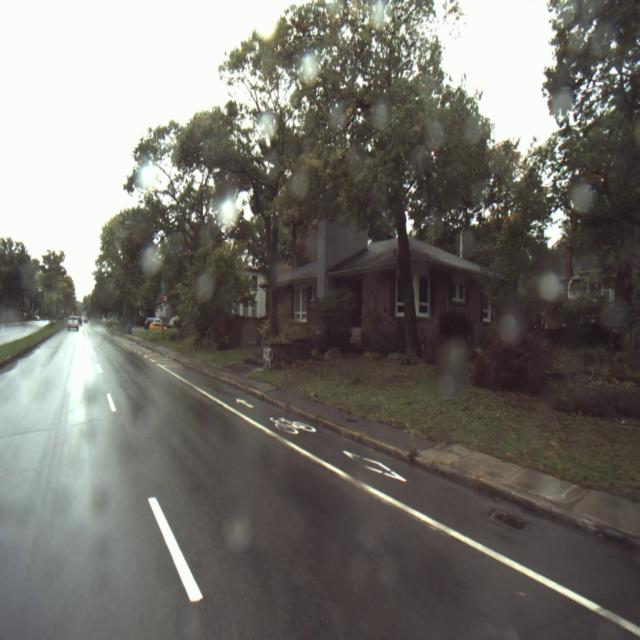car: (67, 314, 79, 332), (149, 322, 168, 332)
